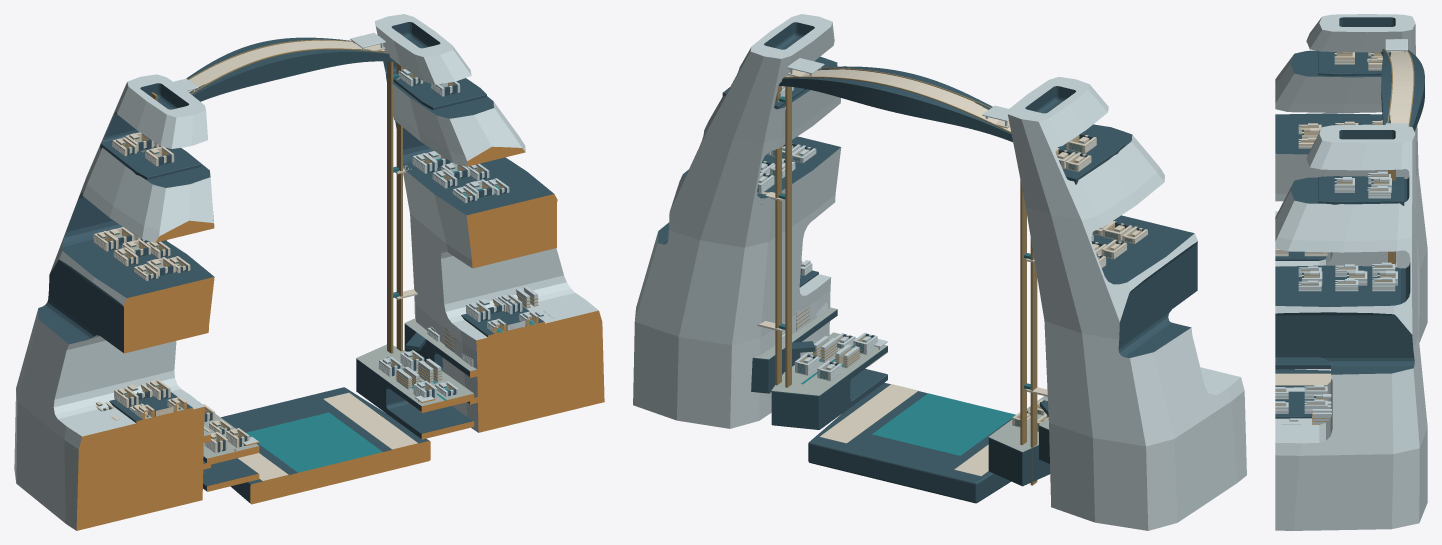
File: SECTION_XZ_Y0.glb
3 renders of one model, left to right at view 1: azimuth 30°, elevation 25°; view 2: azimuth 150°, elevation 25°; view 3: azimuth 270°, elevation 25°, orthographic. The views are drawn at different scales.
Visible parts, largest first — view 1: WEST_GARDEN_CONTINUOUS_INHABITED_ESCARPMENT, EAST_WATER_CONTINUOUS_INHABITED_ESCARPMENT, LOWER_CIVIC_GROUND, Central_basin, UPPER_CIVIC_VESSEL_sculpted_civic_vessel, EAST_WATER_T0_inhabited_landform, EAST_WATER_CLEFT_LIFT_reveal, Lower_public_promenade.001, UPPER_CIVIC_VESSEL_public_street, WEST_GARDEN_T0_inhabited_landform, EAST_WATER_CLEFT_LIFT_reveal.001, WEST_GARDEN_civic_sky_court.002 (+8 smaller); view 2: WEST_GARDEN_CONTINUOUS_INHABITED_ESCARPMENT, EAST_WATER_CONTINUOUS_INHABITED_ESCARPMENT, LOWER_CIVIC_GROUND, Central_basin, UPPER_CIVIC_VESSEL_sculpted_civic_vessel, EAST_WATER_T0_inhabited_landform, EAST_WATER_CLEFT_LIFT_reveal, UPPER_CIVIC_VESSEL_public_street, Lower_public_promenade.001, WEST_GARDEN_T0_inhabited_landform, WEST_GARDEN_CLEFT_LIFT_reveal.001, EAST_WATER_CLEFT_LIFT_reveal.001 (+5 smaller); view 3: EAST_WATER_CONTINUOUS_INHABITED_ESCARPMENT, WEST_GARDEN_CONTINUOUS_INHABITED_ESCARPMENT, EAST_WATER_civic_sky_court.002, UPPER_CIVIC_VESSEL_public_street, UPPER_CIVIC_VESSEL_sculpted_civic_vessel, WEST_GARDEN_civic_sky_court.002, EAST_WATER_civic_sky_court.001, Lower_public_promenade, WEST_GARDEN_T0_inhabited_landform, EAST_WATER_civic_sky_court, LOWER_CIVIC_GROUND, WEST_GARDEN_civic_sky_court (+4 smaller).
Part boxes in pixels (bbox=[...]): WEST_GARDEN_CONTINUOUS_INHABITED_ESCARPMENT: bbox=[14, 74, 214, 530]; EAST_WATER_CONTINUOUS_INHABITED_ESCARPMENT: bbox=[374, 14, 604, 432]; LOWER_CIVIC_GROUND: bbox=[221, 387, 430, 504]; Central_basin: bbox=[246, 412, 382, 472]; UPPER_CIVIC_VESSEL_sculpted_civic_vessel: bbox=[186, 37, 394, 101]; EAST_WATER_T0_inhabited_landform: bbox=[356, 358, 474, 439]; EAST_WATER_CLEFT_LIFT_reveal: bbox=[387, 61, 393, 353]; Lower_public_promenade.001: bbox=[323, 392, 418, 449]; UPPER_CIVIC_VESSEL_public_street: bbox=[187, 40, 385, 92]; WEST_GARDEN_T0_inhabited_landform: bbox=[203, 446, 259, 491]; EAST_WATER_CLEFT_LIFT_reveal.001: bbox=[396, 33, 402, 351]; WEST_GARDEN_civic_sky_court.002: bbox=[100, 140, 200, 179]; WEST_GARDEN_CONTINUOUS_INHABITED_ESCARPMENT: bbox=[1007, 77, 1246, 530]; EAST_WATER_CONTINUOUS_INHABITED_ESCARPMENT: bbox=[633, 14, 841, 428]; LOWER_CIVIC_GROUND: bbox=[808, 382, 1012, 503]; Central_basin: bbox=[872, 393, 1015, 455]; UPPER_CIVIC_VESSEL_sculpted_civic_vessel: bbox=[778, 66, 1012, 142]; EAST_WATER_T0_inhabited_landform: bbox=[771, 346, 887, 429]; EAST_WATER_CLEFT_LIFT_reveal: bbox=[785, 86, 791, 387]; UPPER_CIVIC_VESSEL_public_street: bbox=[786, 69, 1010, 131]; Lower_public_promenade.001: bbox=[820, 384, 918, 443]; WEST_GARDEN_T0_inhabited_landform: bbox=[988, 437, 1050, 486]; WEST_GARDEN_CLEFT_LIFT_reveal.001: bbox=[1020, 180, 1026, 445]; EAST_WATER_CLEFT_LIFT_reveal.001: bbox=[775, 86, 781, 385]; EAST_WATER_CONTINUOUS_INHABITED_ESCARPMENT: bbox=[1275, 124, 1427, 530]; WEST_GARDEN_CONTINUOUS_INHABITED_ESCARPMENT: bbox=[1275, 14, 1427, 342]; EAST_WATER_civic_sky_court.002: bbox=[1318, 176, 1404, 205]; UPPER_CIVIC_VESSEL_public_street: bbox=[1389, 51, 1413, 125]; UPPER_CIVIC_VESSEL_sculpted_civic_vessel: bbox=[1380, 49, 1424, 131]; WEST_GARDEN_civic_sky_court.002: bbox=[1318, 51, 1381, 75]; EAST_WATER_civic_sky_court.001: bbox=[1285, 269, 1400, 294]; Lower_public_promenade: bbox=[1275, 373, 1331, 385]; WEST_GARDEN_T0_inhabited_landform: bbox=[1275, 357, 1330, 369]; EAST_WATER_civic_sky_court: bbox=[1275, 391, 1313, 418]; LOWER_CIVIC_GROUND: bbox=[1275, 369, 1330, 387]; WEST_GARDEN_civic_sky_court: bbox=[1275, 251, 1326, 260].
Bounding box in the file's own units: 2740 × 1884 × 745.
